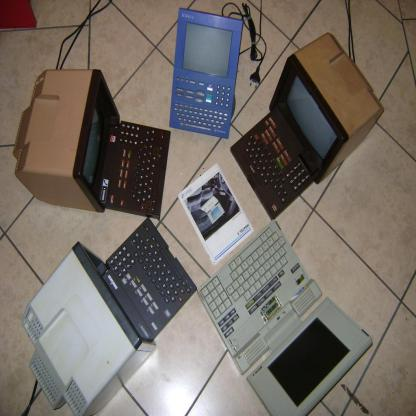board: (197, 220, 373, 416)
